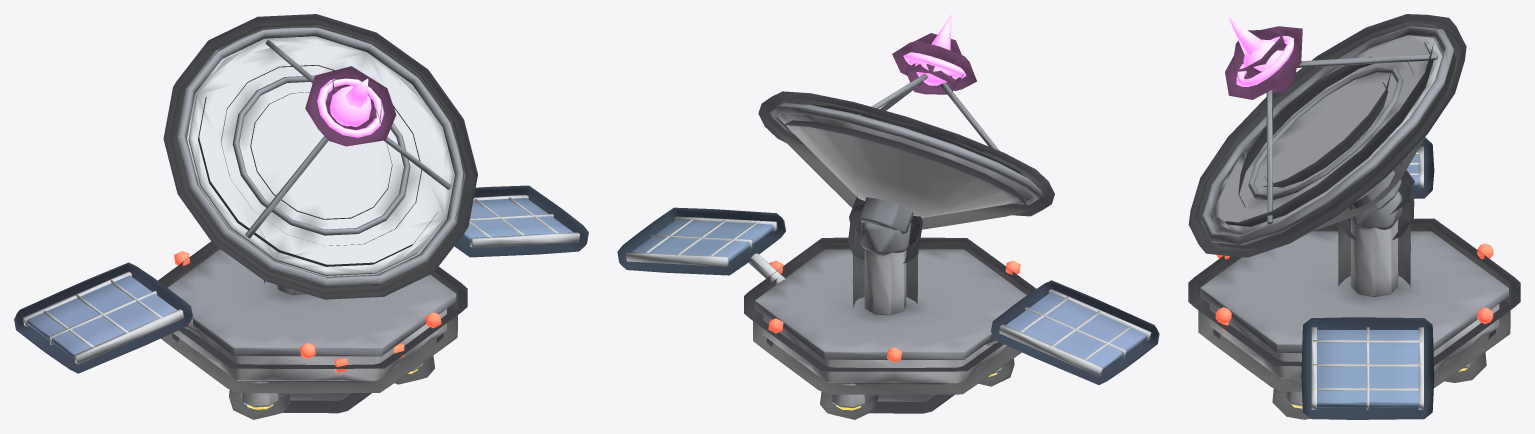
File: orbital_uplink.glb
3 views of the same model, side by side, from view 1: azimuth 30°, elevation 25°; view 2: azimuth 150°, elevation 25°; view 3: azimuth 270°, elevation 25° (orthographic). The views are drawn at different scales.
Visible parts, largest first — view 1: M_Dish, M_Body, M_Dish_Outline, M_Body_Outline, M_Wing, M_Wing.001, M_Wing_Outline, M_Wing.001_Outline; view 2: M_Body, M_Dish, M_Body_Outline, M_Dish_Outline, M_Wing, M_Wing.001, M_Wing_Outline, M_Wing.001_Outline; view 3: M_Body, M_Dish, M_Dish_Outline, M_Body_Outline, M_Wing.001, M_Wing.001_Outline, M_Wing_Outline, M_Wing.
Part boxes in pixels (x1,y1,x2,y2): M_Dish: [176, 27, 465, 287]; M_Body: [168, 249, 456, 409]; M_Dish_Outline: [163, 14, 477, 299]; M_Body_Outline: [158, 241, 467, 419]; M_Wing: [23, 271, 184, 364]; M_Wing.001: [461, 194, 580, 248]; M_Wing_Outline: [14, 262, 192, 373]; M_Wing.001_Outline: [454, 185, 588, 257]; M_Body: [748, 222, 1026, 410]; M_Dish: [770, 14, 1043, 233]; M_Body_Outline: [744, 203, 1036, 419]; M_Dish_Outline: [758, 33, 1054, 245]; M_Wing: [999, 289, 1151, 376]; M_Wing.001: [625, 216, 777, 266]; M_Wing_Outline: [991, 280, 1159, 384]; M_Wing.001_Outline: [617, 207, 785, 275]; M_Body: [1200, 191, 1508, 408]; M_Dish: [1201, 18, 1453, 244]; M_Dish_Outline: [1188, 14, 1466, 257]; M_Body_Outline: [1188, 176, 1520, 419]; M_Wing.001: [1311, 327, 1423, 409]; M_Wing.001_Outline: [1301, 317, 1434, 419]; M_Wing_Outline: [1412, 137, 1434, 198]; M_Wing: [1406, 146, 1423, 188].
Size of the model in its own units: 4.69 by 3.1 by 2.49.
